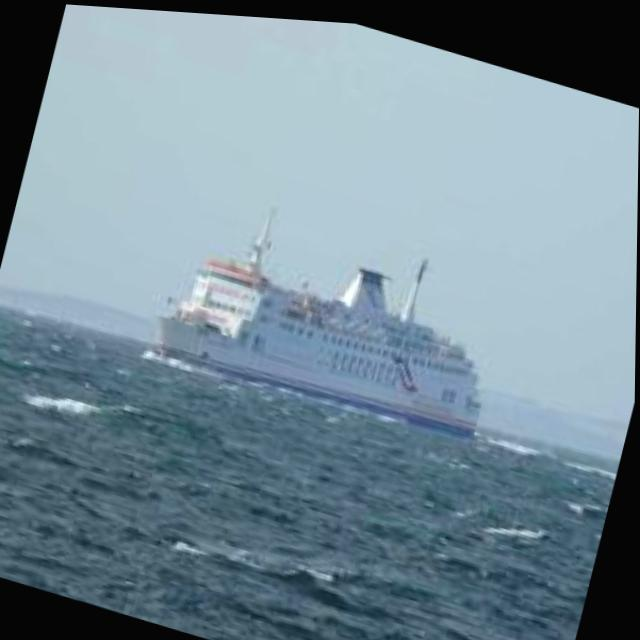ship2: (150, 202, 483, 433)
